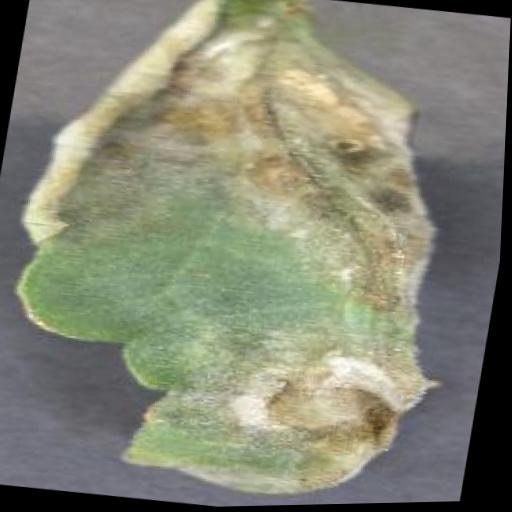Late Blight: (0, 0, 501, 512)
